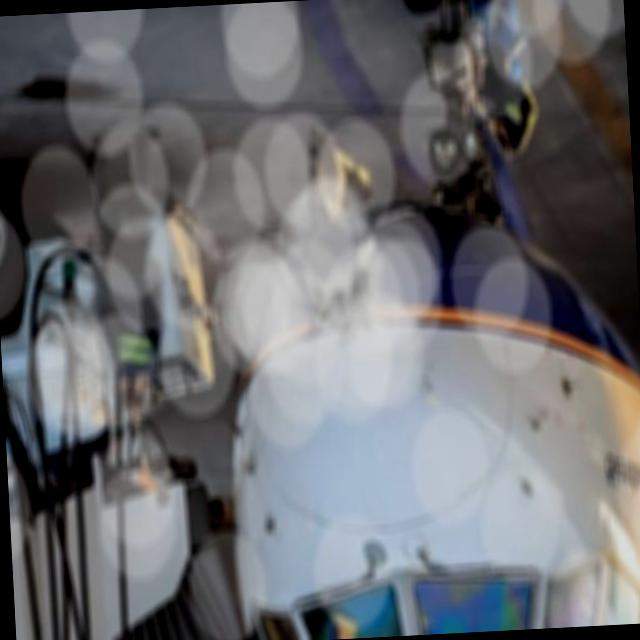crack: (302, 252, 378, 349)
